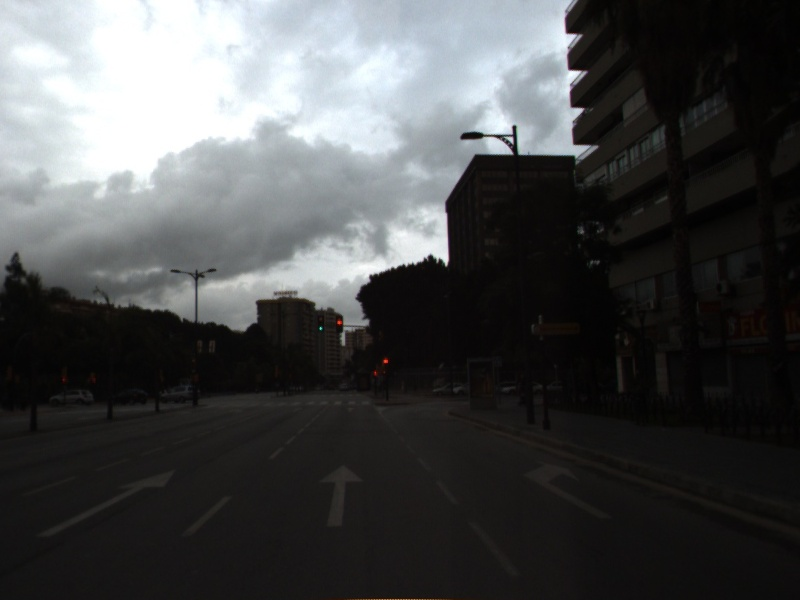RIGHT: (520, 458, 614, 521)
STRAIGHT: (34, 467, 180, 539), (316, 461, 368, 529)
